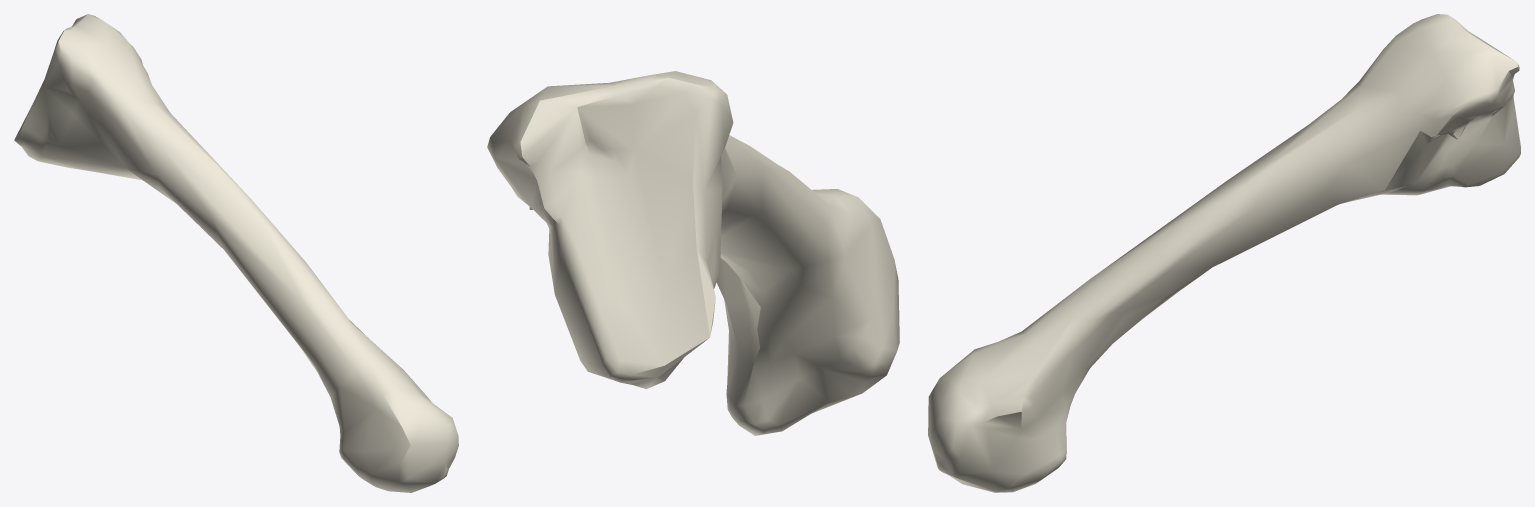
File: fma24510_fj3244.glb
3 renders of one model, left to right at view 1: azimuth 30°, elevation 25°; view 2: azimuth 150°, elevation 25°; view 3: azimuth 270°, elevation 25°, orthographic. The views are drawn at different scales.
Visible parts, largest first — view 1: FMA24510_FJ3244; view 2: FMA24510_FJ3244; view 3: FMA24510_FJ3244.
Boxes of the visible parts, left/top/right/bottom form: FMA24510_FJ3244: left=14, top=14, right=458, bottom=492; FMA24510_FJ3244: left=487, top=71, right=899, bottom=435; FMA24510_FJ3244: left=928, top=14, right=1520, bottom=492.
Bounding box in the file's own units: 0.0308 × 0.0479 × 0.0649.
